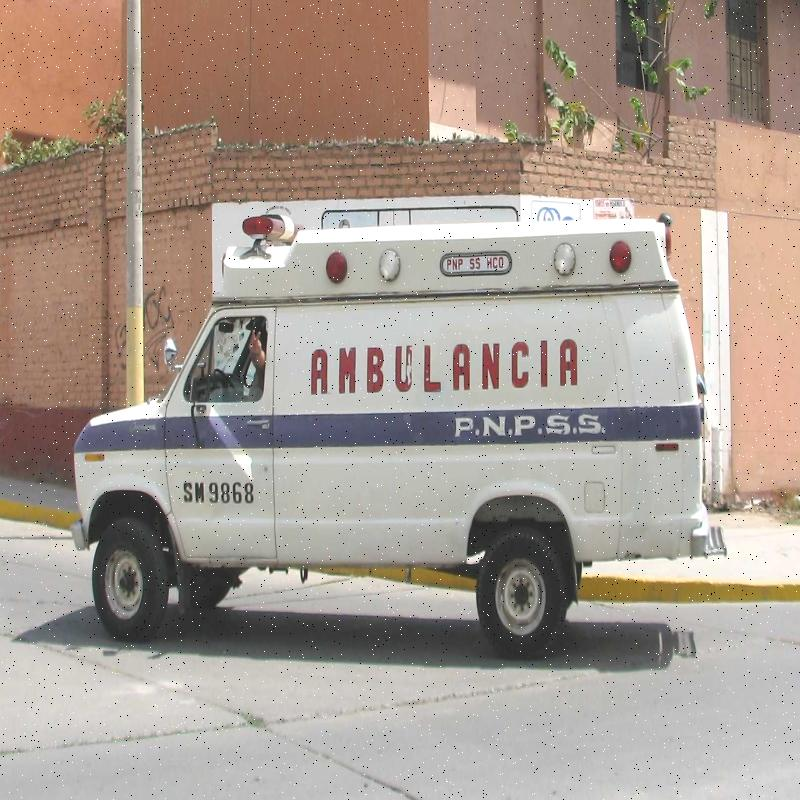ambulance: (34, 201, 724, 645)
